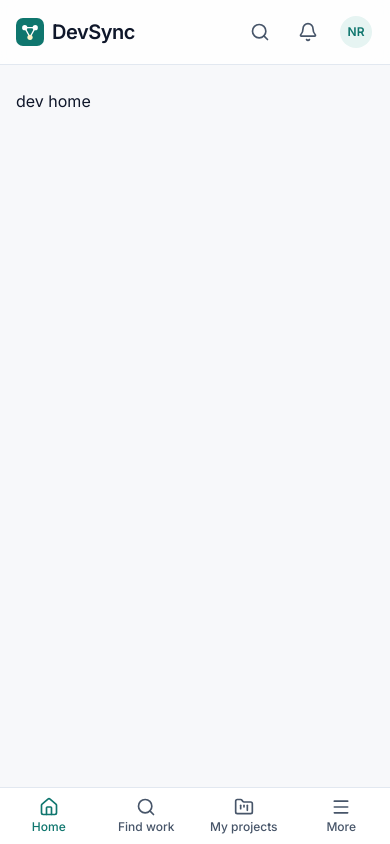
it: AppShell (spec §13.4) › has a bottom tab bar and a More sheet with the rest of the menu
Expected: the links read "Home", "Find work", "My projects", in this order, top-left (32, 797), bottom-right (66, 834); top-left (118, 797), bottom-right (174, 834); top-left (210, 797), bottom-right (278, 834)
Click the button "More" at {"x": 341, "y": 816}, box top-left (292, 788), bottom-right (389, 843)
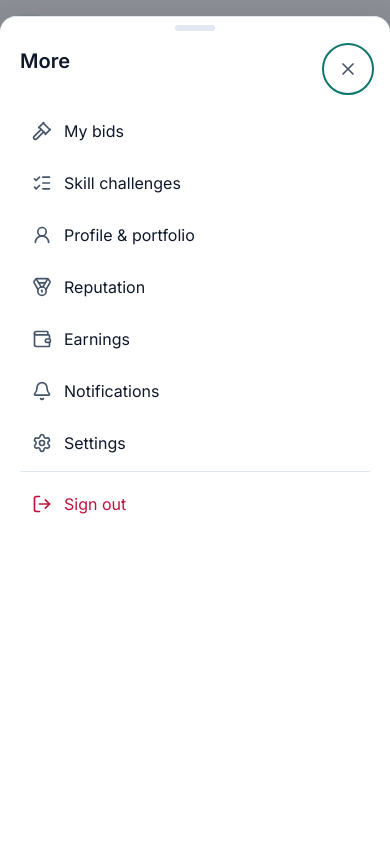
Result: the link "Reputation" is shown at top-left (32, 277), bottom-right (145, 297)
